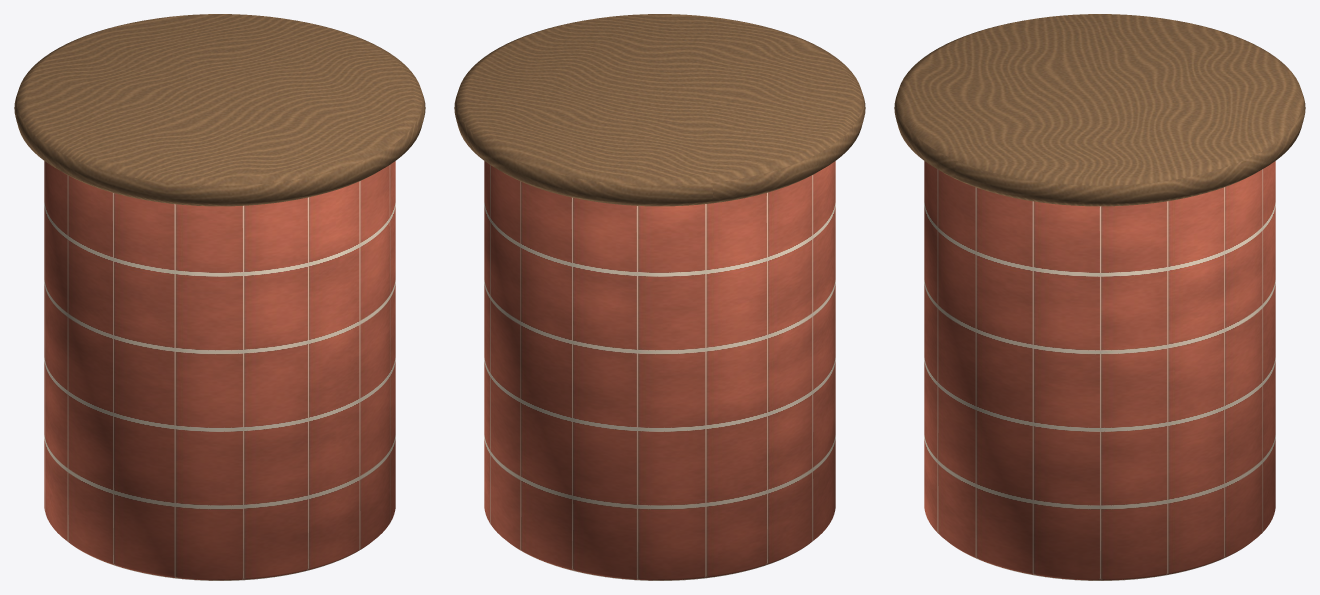
Rendered from tikamoon-bout-de-canape-georges.glb.
3 renders of one model, left to right at view 1: azimuth 30°, elevation 25°; view 2: azimuth 150°, elevation 25°; view 3: azimuth 270°, elevation 25°, orthographic.
Parts seen in each view (by area): view 1: tikamoon-bout-de-canape-georges; view 2: tikamoon-bout-de-canape-georges; view 3: tikamoon-bout-de-canape-georges.
Part boxes in pixels (box(x1,y1,x2,y2)): tikamoon-bout-de-canape-georges: box(14, 14, 425, 580); tikamoon-bout-de-canape-georges: box(454, 14, 865, 580); tikamoon-bout-de-canape-georges: box(894, 14, 1305, 580).
Bounding box in the file's own units: 0.456 × 0.505 × 0.456.
Materials: 2 (2 with a texture image).
